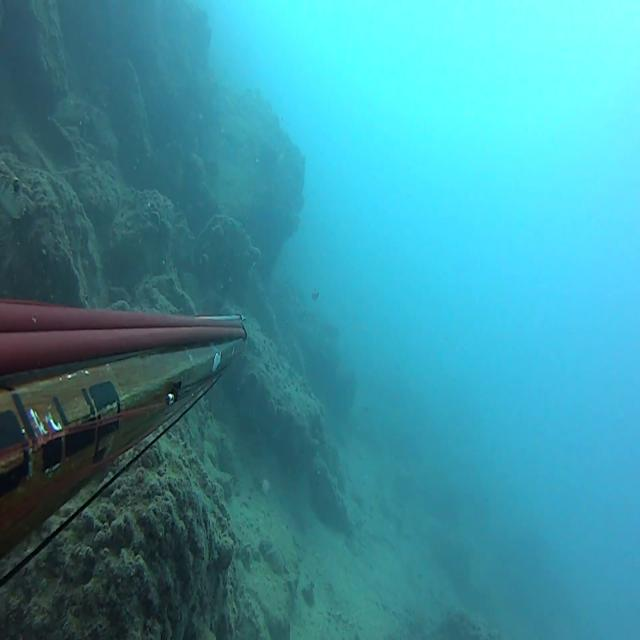Balon Baligi: (0, 158, 26, 218), (312, 288, 319, 300)
